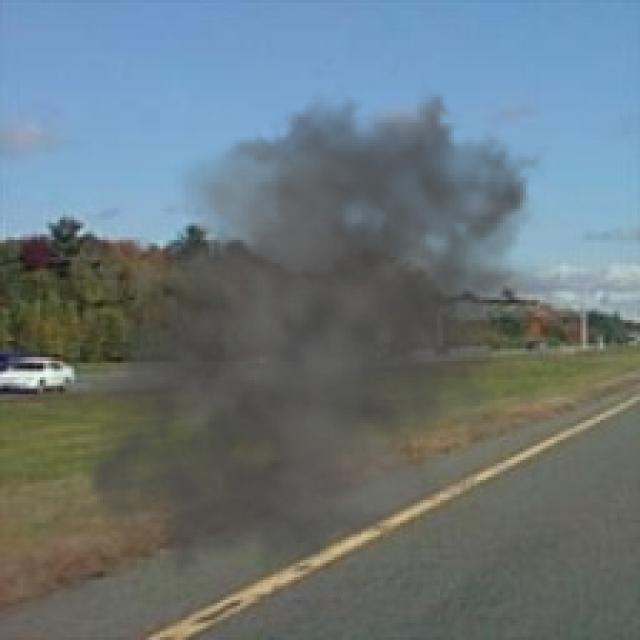Smoke: (49, 57, 568, 614)
